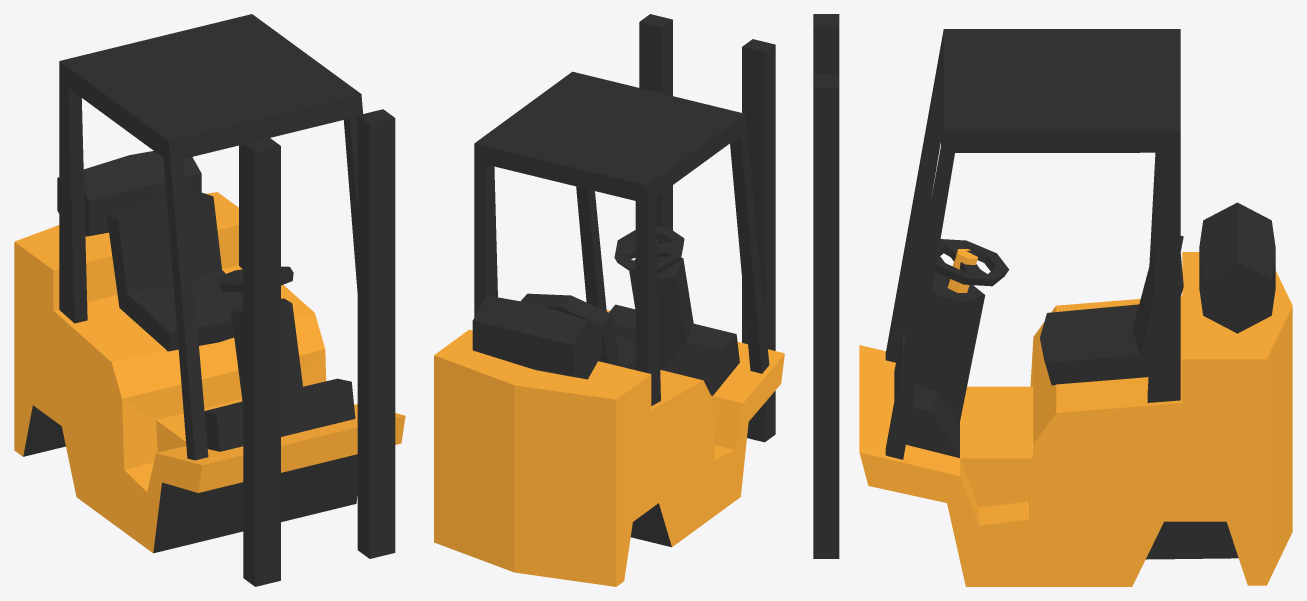
Rendered from forklift-base.glb.
3 renders of one model, left to right at view 1: azimuth 30°, elevation 25°; view 2: azimuth 150°, elevation 25°; view 3: azimuth 270°, elevation 25°, orthographic. The views are drawn at different scales.
Visible parts, largest first — view 1: forklift-base; view 2: forklift-base; view 3: forklift-base.
Boxes of the visible parts, box(x1,y1,x2,y2) form: forklift-base: box(14, 14, 405, 586); forklift-base: box(434, 14, 784, 586); forklift-base: box(813, 14, 1292, 586).
Size of the model in its own units: 1.08 by 2.25 by 2.03.
1 material, 1 textured.
